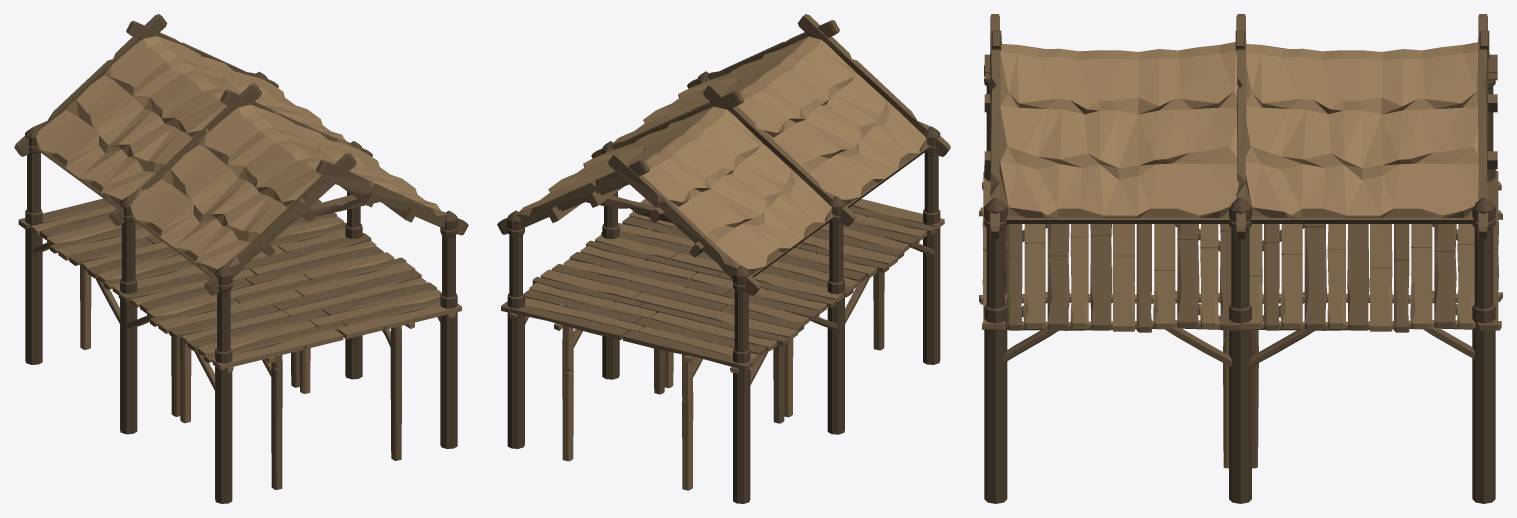
File: Cobertizo.glb
The picture shows the model from 3 angles, left to right: view 1: azimuth 30°, elevation 25°; view 2: azimuth 150°, elevation 25°; view 3: azimuth 270°, elevation 25°; orthographic projection. The views are drawn at different scales.
Visible parts, largest first — view 1: SM_Bld_BoatHouse_02_1; view 2: SM_Bld_BoatHouse_02_1; view 3: SM_Bld_BoatHouse_02_1.
Boxes of the visible parts, box(x1,y1,x2,y2) form: SM_Bld_BoatHouse_02_1: box(14, 14, 468, 503); SM_Bld_BoatHouse_02_1: box(497, 14, 950, 503); SM_Bld_BoatHouse_02_1: box(979, 14, 1502, 503).
Bounding box in the file's own units: 8.01 × 9.22 × 10.8.
1 material, 1 textured.
